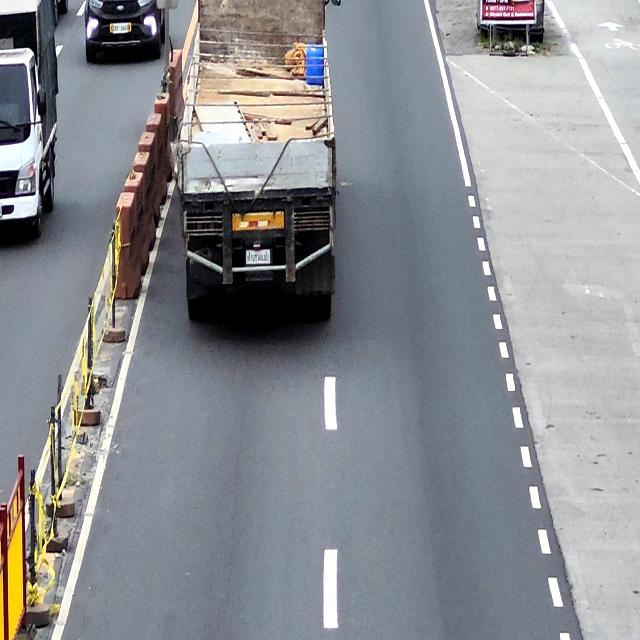Car: (82, 0, 170, 64)
License-Plate: (245, 251, 271, 266), (112, 22, 131, 34)
Truck: (176, 0, 339, 323), (0, 0, 58, 240)
